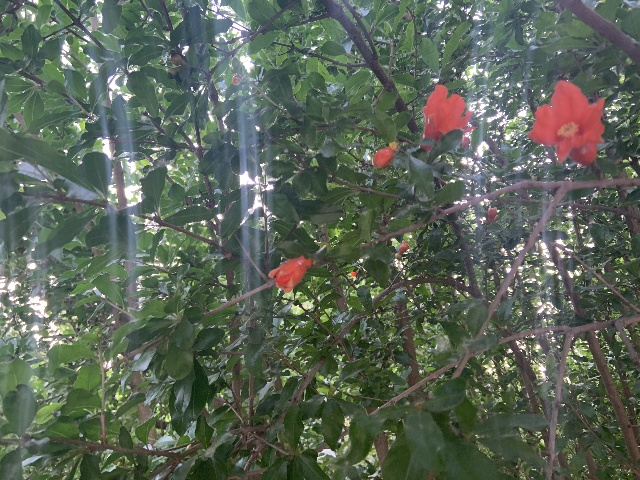bud: (373, 145, 395, 169), (487, 207, 497, 223), (399, 240, 409, 253)
flower: (526, 80, 606, 166), (420, 85, 476, 149), (268, 255, 313, 292)
